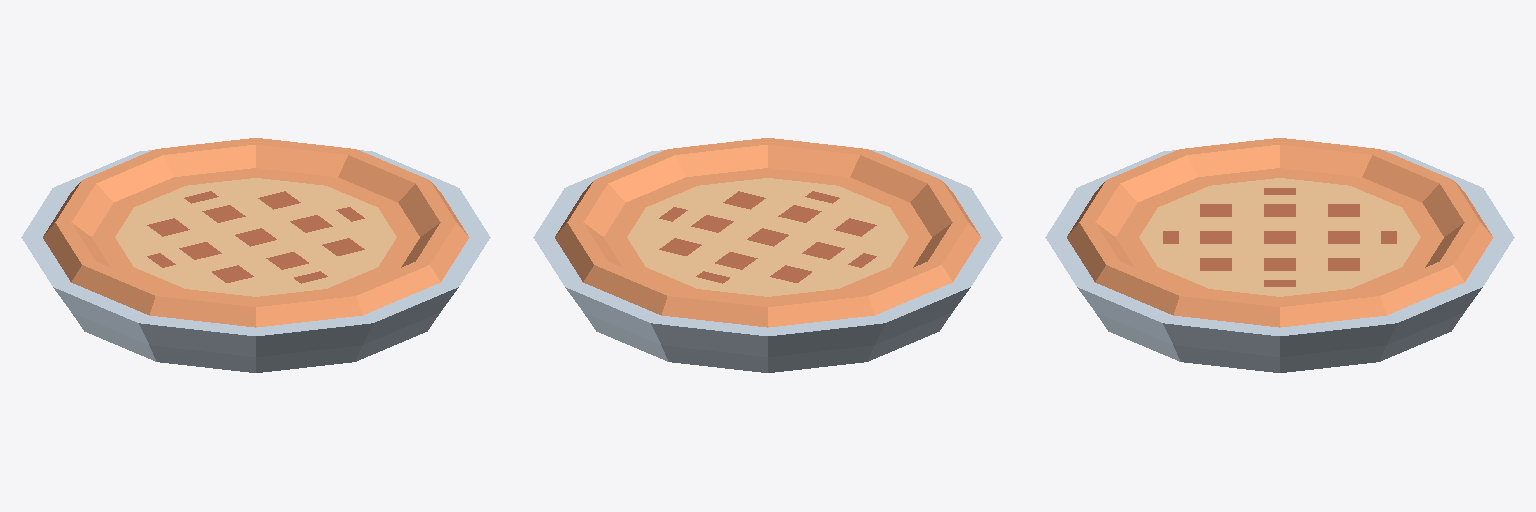
File: pie.obj
3 views of the same model, side by side, from view 1: azimuth 30°, elevation 25°; view 2: azimuth 150°, elevation 25°; view 3: azimuth 270°, elevation 25° (orthographic).
Parts seen in each view (by area): view 1: pie; view 2: pie; view 3: pie.
Part boxes in pixels (x1,y1,x2,y2): pie: (21, 138, 490, 372); pie: (533, 138, 1002, 372); pie: (1045, 138, 1514, 372).
Size of the model in its own units: 0.9504 by 0.1497 by 0.9504.